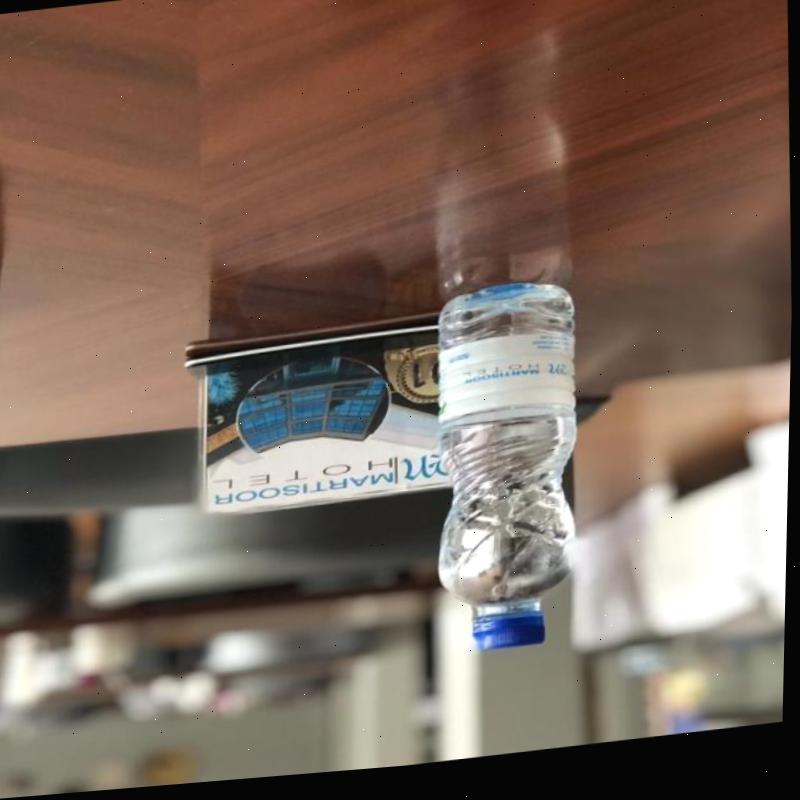botella: (427, 283, 591, 662)
